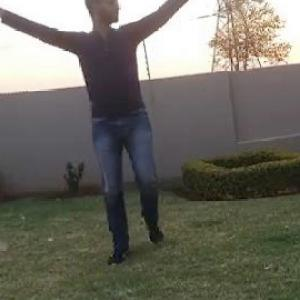takeoff: (1, 0, 201, 252)
